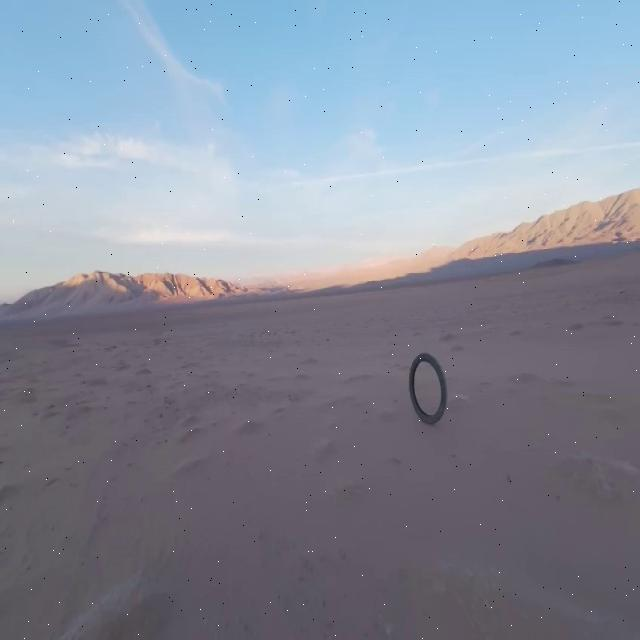Tire: (410, 352, 448, 423)
